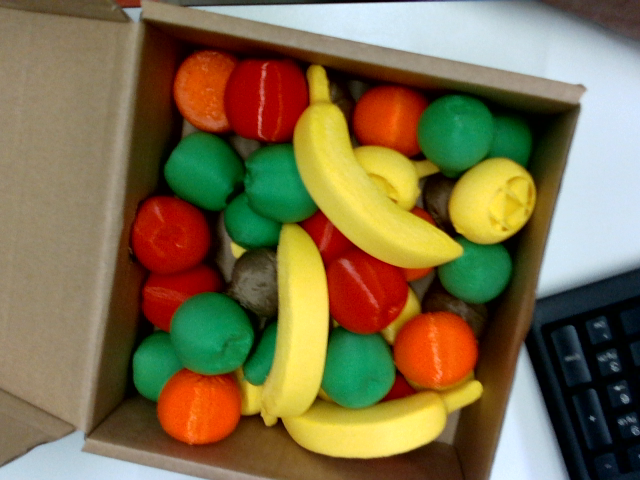banana: (247, 60, 465, 306), (255, 222, 341, 429), (282, 390, 449, 463)
green apple: (154, 276, 268, 391), (402, 77, 511, 186), (155, 120, 258, 220), (230, 137, 319, 236), (318, 325, 401, 415), (433, 233, 516, 309), (116, 323, 193, 404)
lemon: (431, 141, 552, 261), (341, 135, 431, 212)
orange: (381, 298, 488, 402), (155, 367, 243, 447), (347, 79, 430, 158), (169, 46, 238, 134)
red apple: (306, 239, 418, 347), (126, 240, 226, 336), (225, 59, 308, 142), (131, 196, 210, 273)
walnut: (227, 248, 277, 318)
